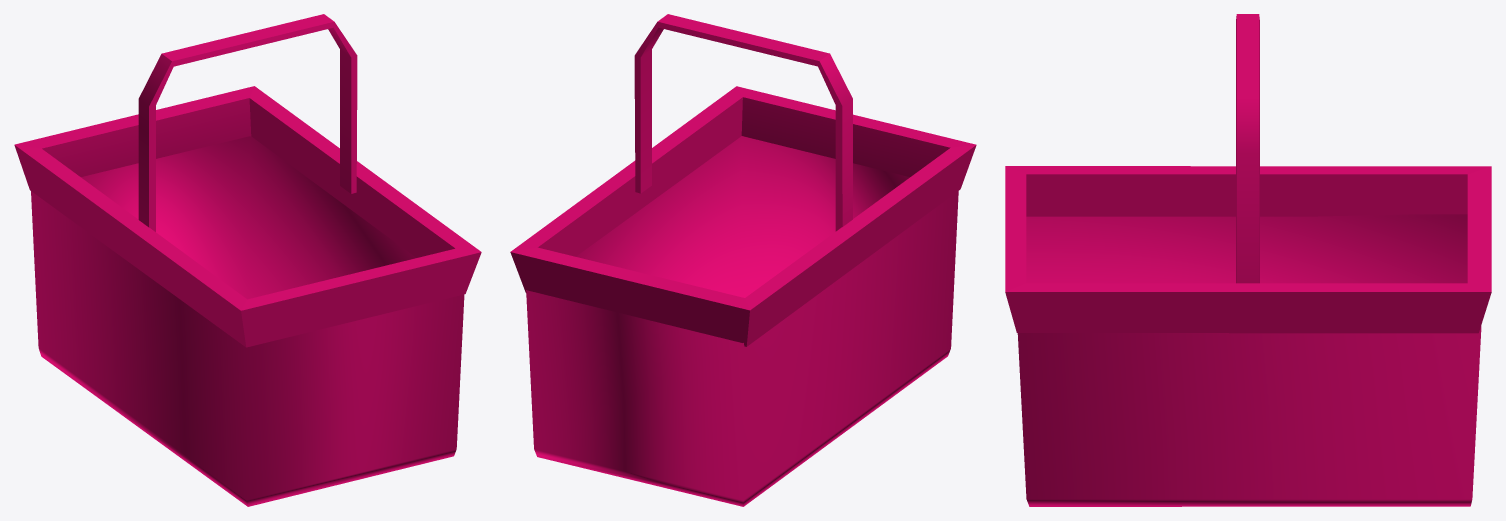
File: Shop_Basket_01_Lod1.fbx
3 views of the same model, side by side, from view 1: azimuth 30°, elevation 25°; view 2: azimuth 150°, elevation 25°; view 3: azimuth 270°, elevation 25° (orthographic). The views are drawn at different scales.
Parts seen in each view (by area): view 1: Shop_Basket_01_Lod1; view 2: Shop_Basket_01_Lod1; view 3: Shop_Basket_01_Lod1.
Boxes of the visible parts, x1=… form: Shop_Basket_01_Lod1: x1=14, y1=14, x2=481, y2=506; Shop_Basket_01_Lod1: x1=510, y1=14, x2=976, y2=506; Shop_Basket_01_Lod1: x1=1005, y1=14, x2=1491, y2=506.
Size of the model in its own units: 32.72 by 47.99 by 53.44.
